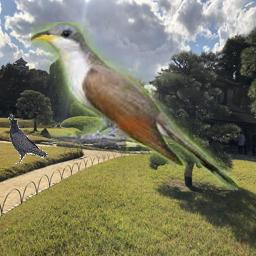Crow: (8, 113, 48, 164)
Cuckoo: (31, 22, 238, 190)
